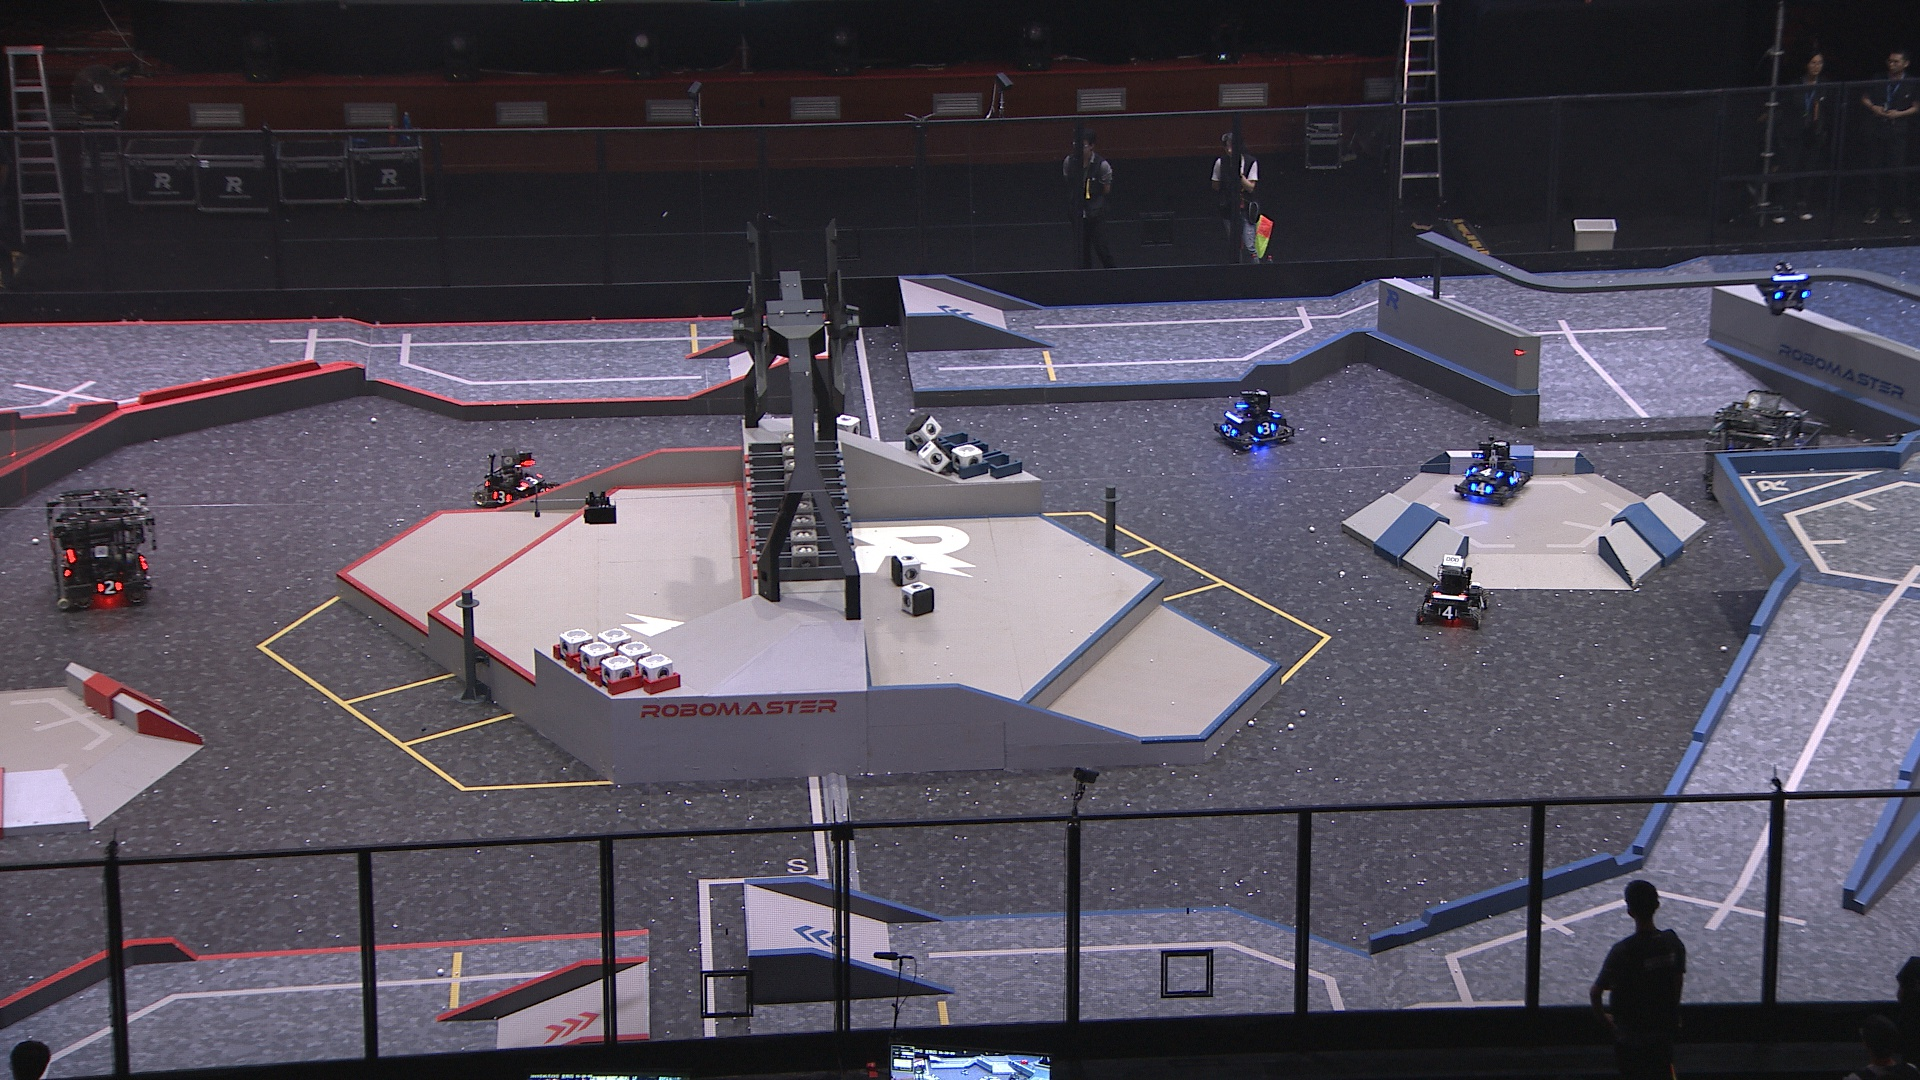armor: (1774, 286, 1807, 302), (96, 578, 124, 593), (520, 473, 543, 491), (1472, 465, 1505, 477), (1255, 419, 1278, 436), (1468, 480, 1490, 495), (1436, 607, 1461, 618), (491, 491, 510, 505), (1261, 405, 1280, 418), (1218, 423, 1236, 438), (1509, 469, 1522, 487), (1476, 593, 1487, 611)
car: (1700, 386, 1830, 502), (41, 487, 153, 609), (1408, 553, 1491, 629), (1457, 436, 1534, 509), (1215, 386, 1294, 455), (473, 447, 553, 513)
watcher: (1756, 258, 1811, 319)
